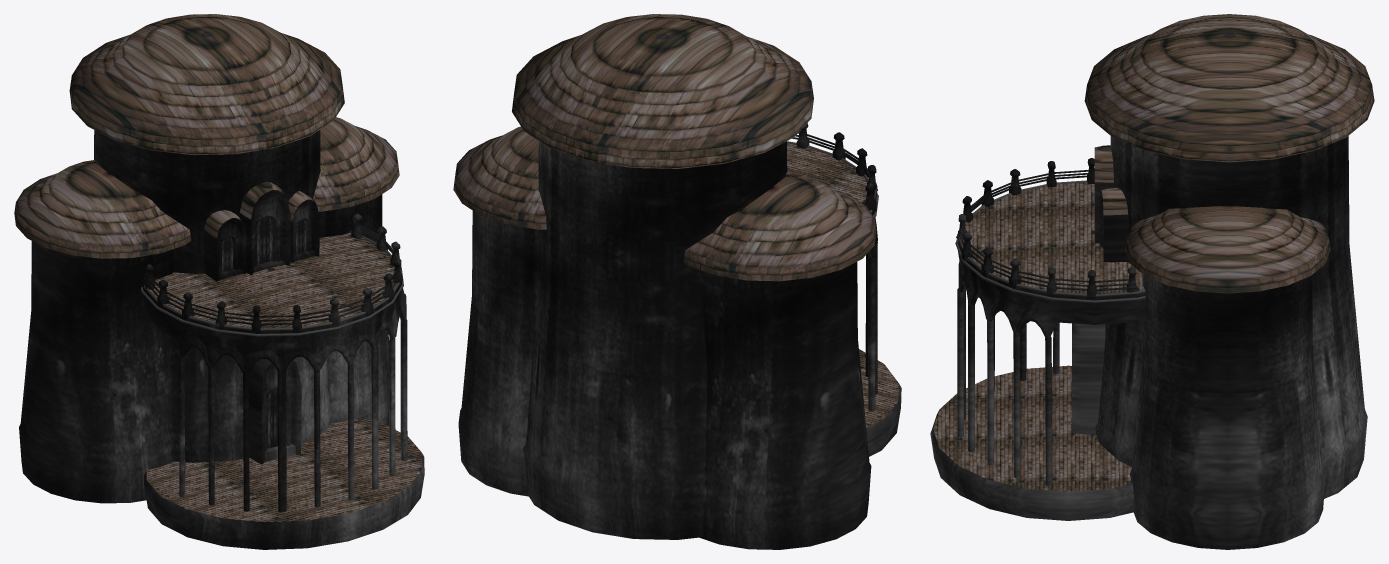
File: diabelny_dwor_p3.FBX
3 views of the same model, side by side, from view 1: azimuth 30°, elevation 25°; view 2: azimuth 150°, elevation 25°; view 3: azimuth 270°, elevation 25° (orthographic). The views are drawn at different scales.
Visible parts, largest first — view 1: mesh01, Object002; view 2: mesh01, Object002; view 3: mesh01, Object002.
Boxes of the visible parts, <box> form: mesh01: <box>19,32,424,549</box>; Object002: <box>14,14,421,521</box>; mesh01: <box>458,34,901,549</box>; Object002: <box>453,14,898,427</box>; mesh01: <box>930,33,1367,549</box>; Object002: <box>933,14,1374,491</box>.
Size of the model in its own units: 15.86 by 16.17 by 17.12.
2 materials, 2 textured.
